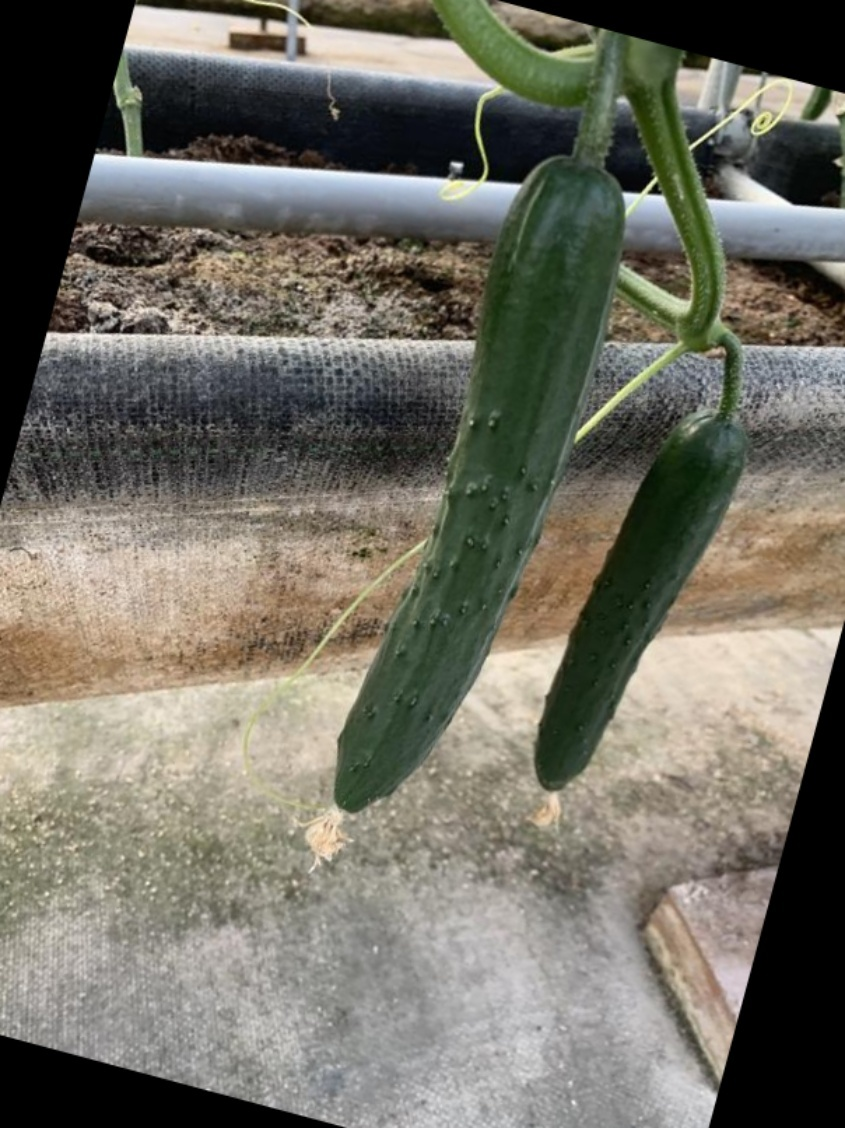mature: (526, 417, 751, 799)
